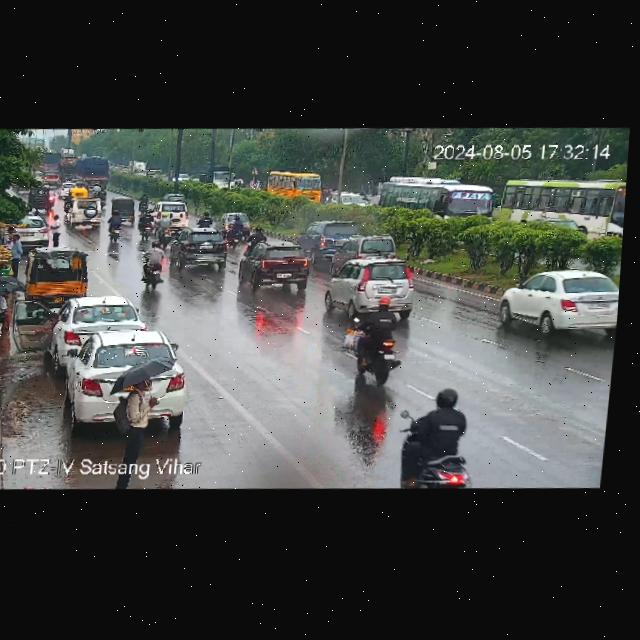bus: (496, 173, 627, 244), (375, 173, 495, 227)
car: (59, 328, 179, 430), (495, 264, 621, 339), (326, 254, 433, 322), (46, 293, 142, 357), (21, 243, 97, 302), (240, 246, 312, 294), (167, 225, 231, 272), (251, 167, 328, 205), (300, 214, 352, 255), (63, 197, 103, 230), (347, 235, 400, 259), (110, 196, 140, 223)
motorcycle: (393, 385, 483, 491), (338, 307, 408, 387), (57, 153, 110, 186), (138, 237, 165, 291), (103, 211, 132, 245), (29, 184, 60, 212), (221, 214, 246, 248), (154, 212, 175, 239), (137, 211, 155, 238), (196, 209, 217, 229), (245, 225, 266, 242)
person: (104, 355, 185, 462), (0, 230, 30, 275), (0, 282, 23, 331), (50, 214, 62, 244)
